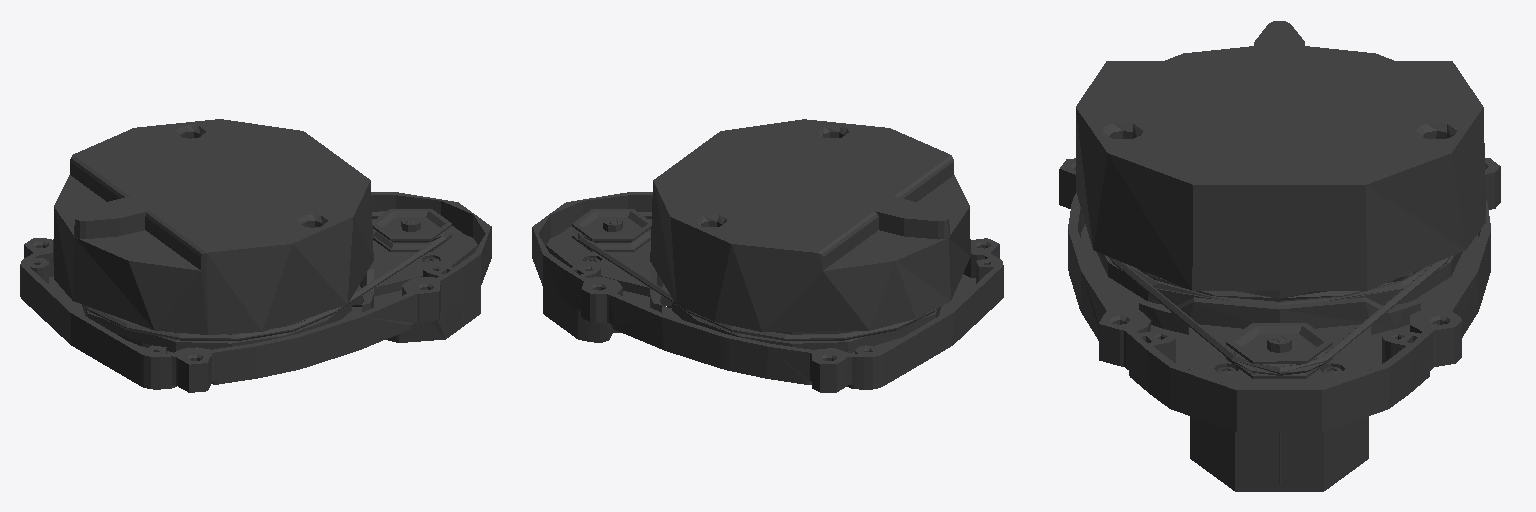
The robot description file, URDF, robot "turtlebot3_waffle":
<?xml version="1.0" ?>
<robot name="turtlebot3_waffle" xmlns:xacro="http://ros.org/wiki/xacro">
  <!-- <xacro:include filename="$(find turtlebot3_description)/urdf/common_properties.urdf"/>

  <xacro:property name="r200_cam_rgb_px" value="0.005"/>
  <xacro:property name="r200_cam_rgb_py" value="0.018"/>
  <xacro:property name="r200_cam_rgb_pz" value="0.013"/>
  <xacro:property name="r200_cam_depth_offset" value="0.01"/> -->

  <!-- Init colour -->
  <material name="black">
      <color rgba="0.0 0.0 0.0 1.0"/>
  </material>

  <material name="dark">
    <color rgba="0.3 0.3 0.3 1.0"/>
  </material>

  <material name="light_black">
    <color rgba="0.4 0.4 0.4 1.0"/>
  </material>

  <material name="blue">
    <color rgba="0.0 0.0 0.8 1.0"/>
  </material>

  <material name="green">
    <color rgba="0.0 0.8 0.0 1.0"/>
  </material>

  <material name="grey">
    <color rgba="0.5 0.5 0.5 1.0"/>
  </material>

  <material name="orange">
    <color rgba="1.0 0.4235 0.0392 1.0"/>
  </material>

  <material name="brown">
    <color rgba="0.8706 0.8118 0.7647 1.0"/>
  </material>

  <material name="red">
    <color rgba="0.8 0.0 0.0 1.0"/>
  </material>

  <material name="white">
    <color rgba="1.0 1.0 1.0 1.0"/>
  </material>

  <link name="base_footprint"/>

  <joint name="base_joint" type="fixed">
    <parent link="base_footprint"/>
    <child link="base_link" />
    <origin xyz="0 0 0.010" rpy="0 0 0"/>
  </joint>

  <link name="base_link">
    <visual>
      <origin xyz="-0.064 0 0.0" rpy="0 0 0"/>
      <geometry>
        <mesh filename="package://turtlebot3_description/meshes/bases/waffle_base.stl" scale="0.001 0.001 0.001"/>
      </geometry>
      <material name="light_black"/>
    </visual>

    <collision>
      <origin xyz="-0.064 0 0.047" rpy="0 0 0"/>
      <geometry>
        <box size="0.266 0.266 0.094"/>
      </geometry>
    </collision>

    <inertial>
      <origin xyz="0 0 0" rpy="0 0 0"/>
      <mass value="1.3729096e+00"/>
      <inertia ixx="8.7002718e-03" ixy="-4.7576583e-05" ixz="1.1160499e-04"
               iyy="8.6195418e-03" iyz="-3.5422299e-06"
               izz="1.4612727e-02" />
    </inertial>
  </link>

  <joint name="wheel_left_joint" type="continuous">
    <parent link="base_link"/>
    <child link="wheel_left_link"/>
    <origin xyz="0.0 0.144 0.023" rpy="-1.57 0 0"/>
    <axis xyz="0 0 1"/>
  </joint>

  <link name="wheel_left_link">
    <visual>
      <origin xyz="0 0 0" rpy="1.57 0 0"/>
      <geometry>
        <mesh filename="package://turtlebot3_description/meshes/wheels/left_tire.stl" scale="0.001 0.001 0.001"/>
      </geometry>
      <material name="dark"/>
    </visual>

    <collision>
      <origin xyz="0 0 0" rpy="0 0 0"/>
      <geometry>
        <cylinder length="0.018" radius="0.033"/>
      </geometry>
    </collision>

    <inertial>
      <origin xyz="0 0 0" />
      <mass value="2.8498940e-02" />
      <inertia ixx="1.1175580e-05" ixy="-4.2369783e-11" ixz="-5.9381719e-09"
               iyy="1.1192413e-05" iyz="-1.4400107e-11"
               izz="2.0712558e-05" />
      </inertial>
  </link>

  <joint name="wheel_right_joint" type="continuous">
    <parent link="base_link"/>
    <child link="wheel_right_link"/>
    <origin xyz="0.0 -0.144 0.023" rpy="-1.57 0 0"/>
    <axis xyz="0 0 1"/>
  </joint>

  <link name="wheel_right_link">
    <visual>
      <origin xyz="0 0 0" rpy="1.57 0 0"/>
      <geometry>
        <mesh filename="package://turtlebot3_description/meshes/wheels/right_tire.stl" scale="0.001 0.001 0.001"/>
      </geometry>
      <material name="dark"/>
    </visual>

    <collision>
      <origin xyz="0 0 0" rpy="0 0 0"/>
      <geometry>
        <cylinder length="0.018" radius="0.033"/>
      </geometry>
    </collision>

    <inertial>
      <origin xyz="0 0 0" />
      <mass value="2.8498940e-02" />
      <inertia ixx="1.1175580e-05" ixy="-4.2369783e-11" ixz="-5.9381719e-09"
               iyy="1.1192413e-05" iyz="-1.4400107e-11"
               izz="2.0712558e-05" />
      </inertial>
  </link>

  <joint name="caster_back_right_joint" type="fixed">
    <parent link="base_link"/>
    <child link="caster_back_right_link"/>
    <origin xyz="-0.177 -0.064 -0.004" rpy="-1.57 0 0"/>
  </joint>

  <link name="caster_back_right_link">
    <collision>
      <origin xyz="0 0.001 0" rpy="0 0 0"/>
      <geometry>
        <box size="0.030 0.009 0.020"/>
      </geometry>
    </collision>

    <inertial>
      <origin xyz="0 0 0" />
      <mass value="0.005" />
      <inertia ixx="0.001" ixy="0.0" ixz="0.0"
               iyy="0.001" iyz="0.0"
               izz="0.001" />
    </inertial>
  </link>

  <joint name="caster_back_left_joint" type="fixed">
    <parent link="base_link"/>
    <child link="caster_back_left_link"/>
    <origin xyz="-0.177 0.064 -0.004" rpy="-1.57 0 0"/>
  </joint>

  <link name="caster_back_left_link">
    <collision>
      <origin xyz="0 0.001 0" rpy="0 0 0"/>
      <geometry>
        <box size="0.030 0.009 0.020"/>
      </geometry>
    </collision>

    <inertial>
      <origin xyz="0 0 0" />
      <mass value="0.005" />
      <inertia ixx="0.001" ixy="0.0" ixz="0.0"
               iyy="0.001" iyz="0.0"
               izz="0.001" />
    </inertial>
  </link>

  <joint name="imu_joint" type="fixed">
    <parent link="base_link"/>
    <child link="imu_link"/>
    <origin xyz="0.0 0 0.068" rpy="0 0 0"/>
  </joint>

  <link name="imu_link"/>

  <joint name="scan_joint" type="fixed">
    <parent link="base_link"/>
    <child link="base_scan"/>
    <origin xyz="-0.064 0 0.122" rpy="0 0 0"/>
  </joint>

  <link name="base_scan">
    <visual>
      <origin xyz="0 0 0" rpy="0 0 0"/>
      <geometry>
        <mesh filename="package://turtlebot3_description/meshes/sensors/lds.stl" scale="0.001 0.001 0.001"/>
      </geometry>
      <material name="dark"/>
    </visual>

    <collision>
      <origin xyz="0.015 0 -0.0065" rpy="0 0 0"/>
      <geometry>
        <cylinder length="0.0315" radius="0.055"/>
      </geometry>
    </collision>

    <inertial>
      <mass value="0.114" />
      <origin xyz="0 0 0" />
      <inertia ixx="0.001" ixy="0.0" ixz="0.0"
               iyy="0.001" iyz="0.0"
               izz="0.001" />
    </inertial>
  </link>

  <joint name="camera_joint" type="fixed">
    <origin xyz="0.064 -0.065 0.094" rpy="0 0 0"/>
    <parent link="base_link"/>
    <child link="camera_link"/>
  </joint>

  <link name="camera_link">
    <visual>
     <origin xyz="0 0 0" rpy="1.57 0 1.57"/>
      <geometry>
       <mesh filename="package://turtlebot3_description/meshes/sensors/r200.dae" />
      </geometry>
    </visual>
    <collision>
      <origin xyz="0.003 0.065 0.007" rpy="0 0 0"/>
      <geometry>
        <box size="0.012 0.132 0.020"/>
      </geometry>
    </collision>

    <!-- This inertial field needs doesn't contain reliable data!! -->
<!--   <inertial>
      <mass value="0.564" />
      <origin xyz="0 0 0" />
      <inertia ixx="0.003881243" ixy="0.0" ixz="0.0"
               iyy="0.000498940" iyz="0.0"
               izz="0.003879257" />
    </inertial>-->
  </link>

  <joint name="camera_rgb_joint" type="fixed">
    <origin xyz="0.005 0.018 0.013" rpy="0 0 0"/>
    <!-- <origin xyz="${r200_cam_rgb_px} ${r200_cam_rgb_py} ${r200_cam_rgb_pz}" rpy="0 0 0"/> -->
    <parent link="camera_link"/>
    <child link="camera_rgb_frame"/>
  </joint>
  <link name="camera_rgb_frame"/>

  <joint name="camera_rgb_optical_joint" type="fixed">
    <origin xyz="0 0 0" rpy="-1.57 0 -1.57"/>
    <parent link="camera_rgb_frame"/>
    <child link="camera_rgb_optical_frame"/>
  </joint>
  <link name="camera_rgb_optical_frame"/>

  <joint name="camera_depth_joint" type="fixed">
    <origin xyz="0.005 0.028 0.013" rpy="0 0 0"/>
    <!-- <origin xyz="${r200_cam_rgb_px} ${r200_cam_rgb_py + r200_cam_depth_offset} ${r200_cam_rgb_pz}" rpy="0 0 0"/> -->
    <parent link="camera_link"/>
    <child link="camera_depth_frame"/>
  </joint>
  <link name="camera_depth_frame"/>

  <joint name="camera_depth_optical_joint" type="fixed">
    <origin xyz="0 0 0" rpy="-1.57 0 -1.57"/>
    <parent link="camera_depth_frame"/>
    <child link="camera_depth_optical_frame"/>
  </joint>
  <link name="camera_depth_optical_frame"/>

</robot>

--- Render facts (derived) ---
The picture shows the robot from 3 angles, left to right: view 1: azimuth 30°, elevation 25°; view 2: azimuth 150°, elevation 25°; view 3: azimuth 270°, elevation 25°; orthographic projection.
Robot: turtlebot3_waffle — 13 links, 12 joints (2 continuous, 10 fixed); root link base_footprint; default pose: every joint at zero.
Visible links, largest first — view 1: base_scan; view 2: base_scan; view 3: base_scan.
Link boxes in pixels (left/top/right/bottom): base_scan: left=20, top=119, right=491, bottom=392; base_scan: left=532, top=119, right=1003, bottom=392; base_scan: left=1059, top=21, right=1500, bottom=491.
Size in the robot's own frame: 0.0938 by 0.0689 by 0.0392 metres.
Meshes: 5 distinct files referenced, 1 mesh visuals loaded (1 binary STL); not drawn: 4 (reference not matched to a file when rendering).